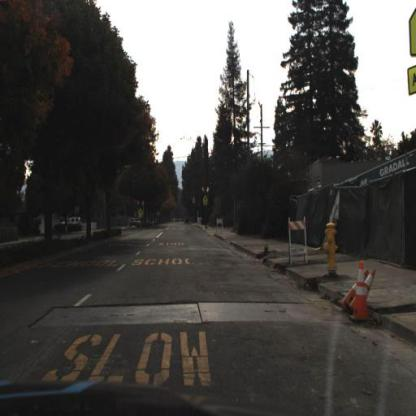car: (58, 212, 86, 231)
